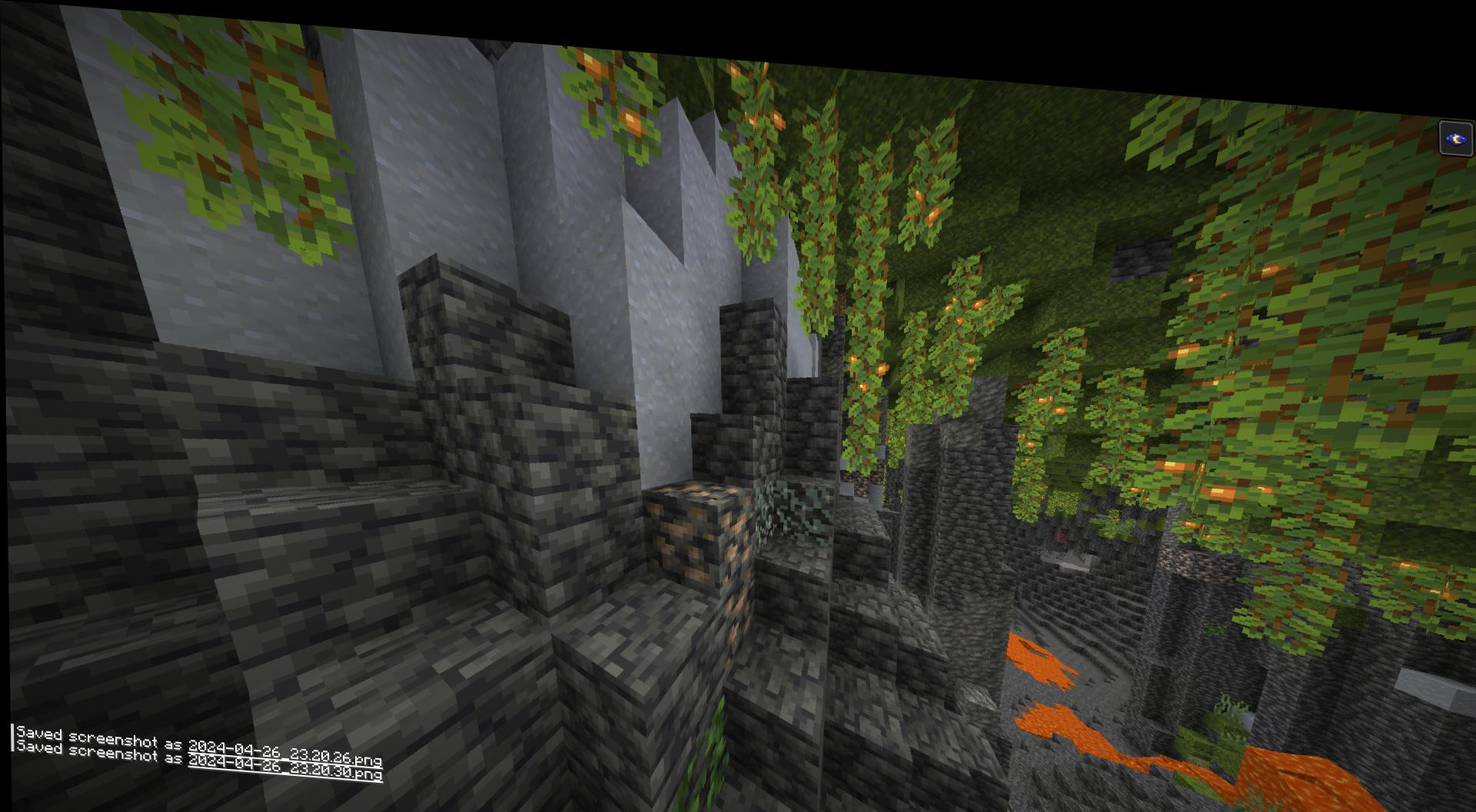iron ore: (641, 483, 716, 576), (1161, 521, 1240, 567), (718, 560, 757, 648), (716, 478, 751, 567), (650, 462, 740, 494), (841, 452, 882, 485)
